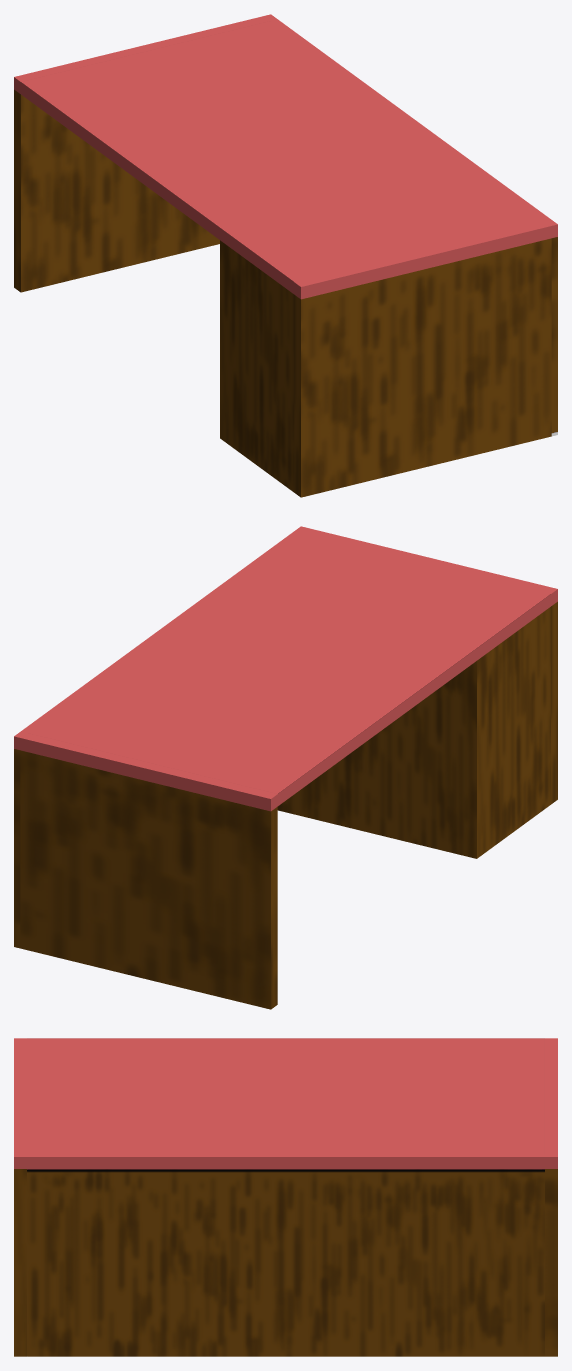
The model's file is desk.glb.
The picture shows the model from 3 angles, top to bottom: view 1: azimuth 30°, elevation 25°; view 2: azimuth 150°, elevation 25°; view 3: azimuth 270°, elevation 25°; orthographic projection. The views are drawn at different scales.
Parts seen in each view (by area): view 1: desk; view 2: desk; view 3: desk.
Boxes of the visible parts, box(x1,y1,x2,y2) form: desk: box(14, 14, 557, 497); desk: box(14, 526, 557, 1009); desk: box(14, 1038, 557, 1356).
Bounding box in the file's own units: 1.09 × 0.85 × 2.1.
1 material, 1 textured.
